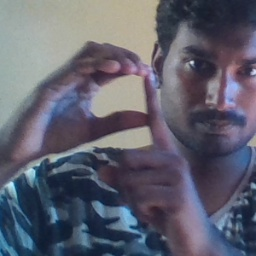P: (32, 38, 187, 199)
